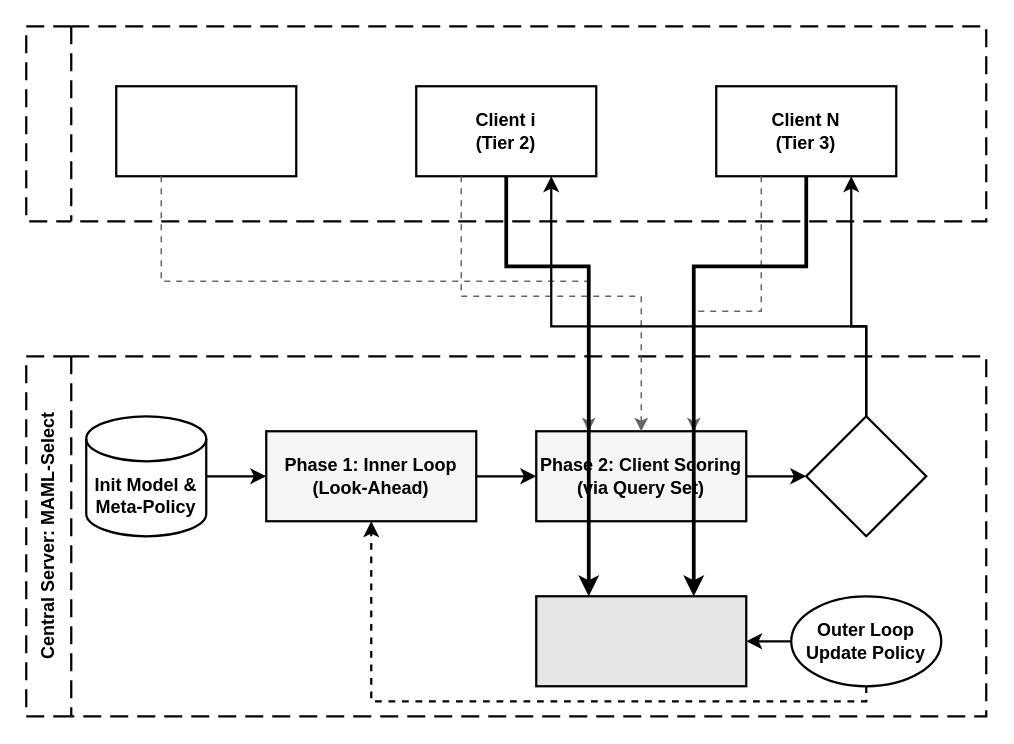
This 1014x744 diagram has some shape labels left out. The box of each missing label's shape, as (x1, y1, x2, y2) in pixels:
Client 1 (Tier 1): (114, 84, 297, 177)
Heterogeneous Edge: (24, 24, 987, 222)
Phase 3: Aggregation: (534, 594, 747, 687)
Select Top-K: (804, 414, 927, 537)
